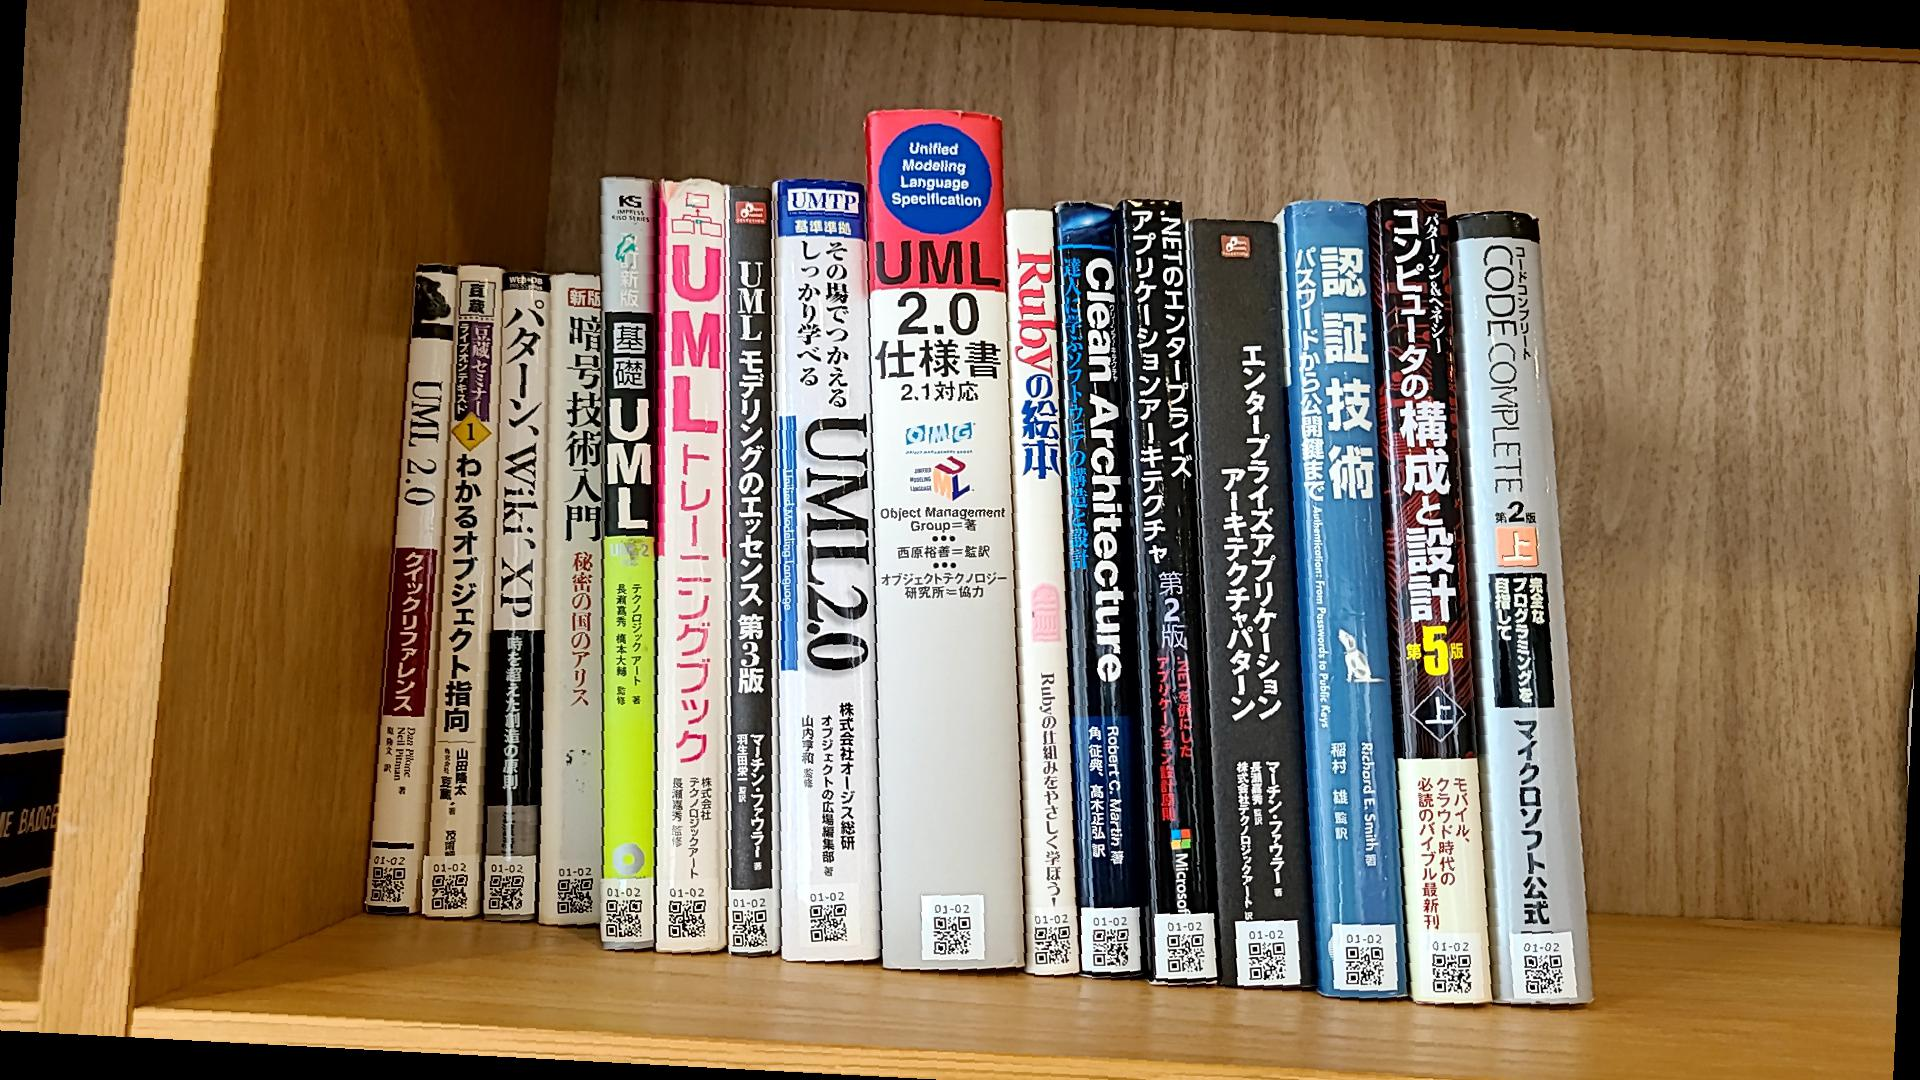book: (862, 99, 1011, 976), (771, 170, 882, 973), (647, 171, 733, 957), (1055, 194, 1137, 984), (717, 173, 785, 964), (593, 167, 658, 951), (1004, 199, 1065, 975), (535, 266, 600, 931), (491, 255, 550, 935)
